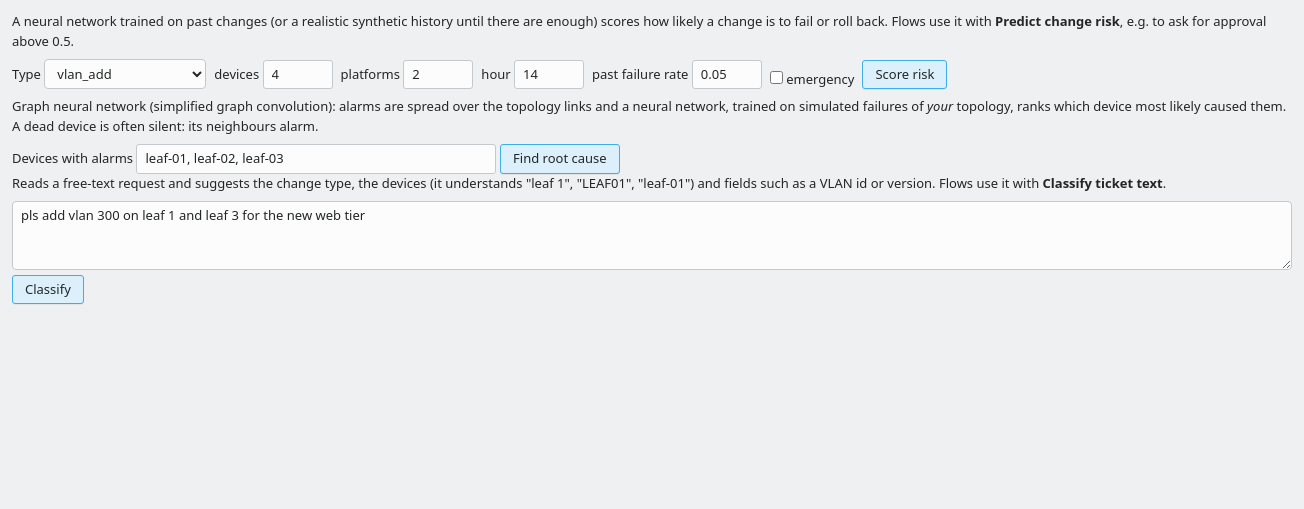
Test: Neural tabs › scores change risk, ranks root cause, classifies a ticket
Click the button "Score risk": (905, 74) [862,60,948,89]
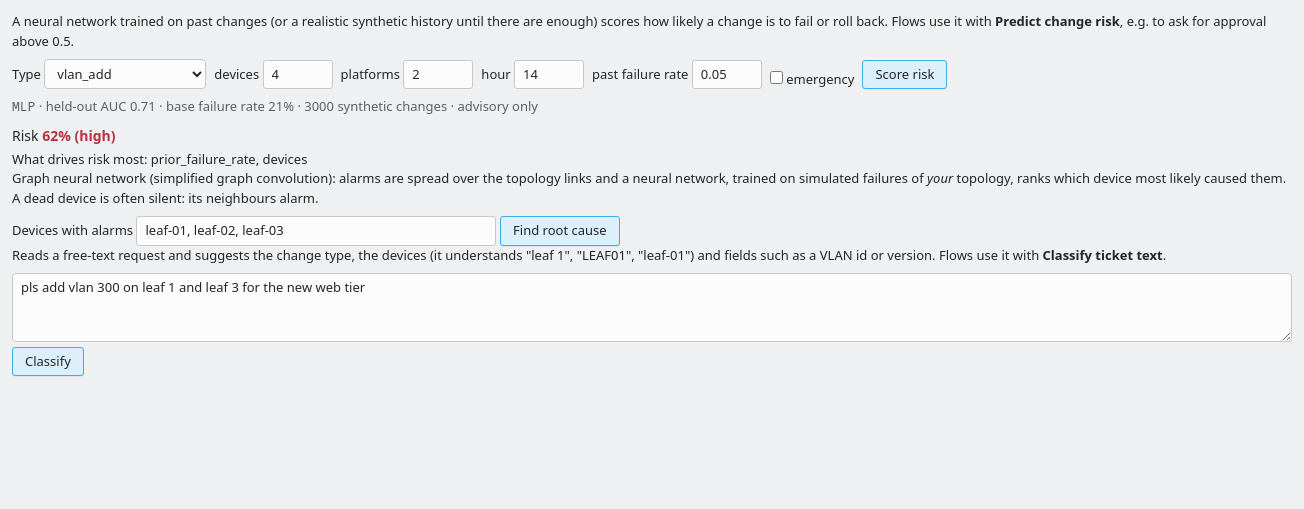
Now the text "62% (high)" is shown, box [42,126,116,144]
Click the button "Find root cause": (560, 231) [500,216,620,246]
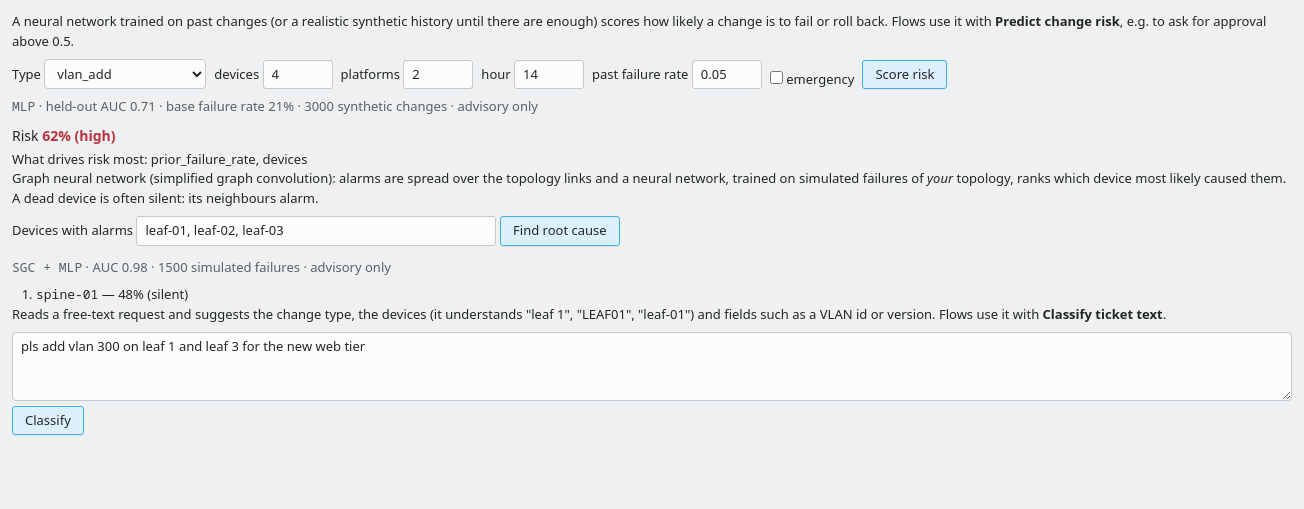
Now the text "spine-01" is shown, box [36,285,98,303]
Click the button "Classify": (48, 420) [12,406,84,435]
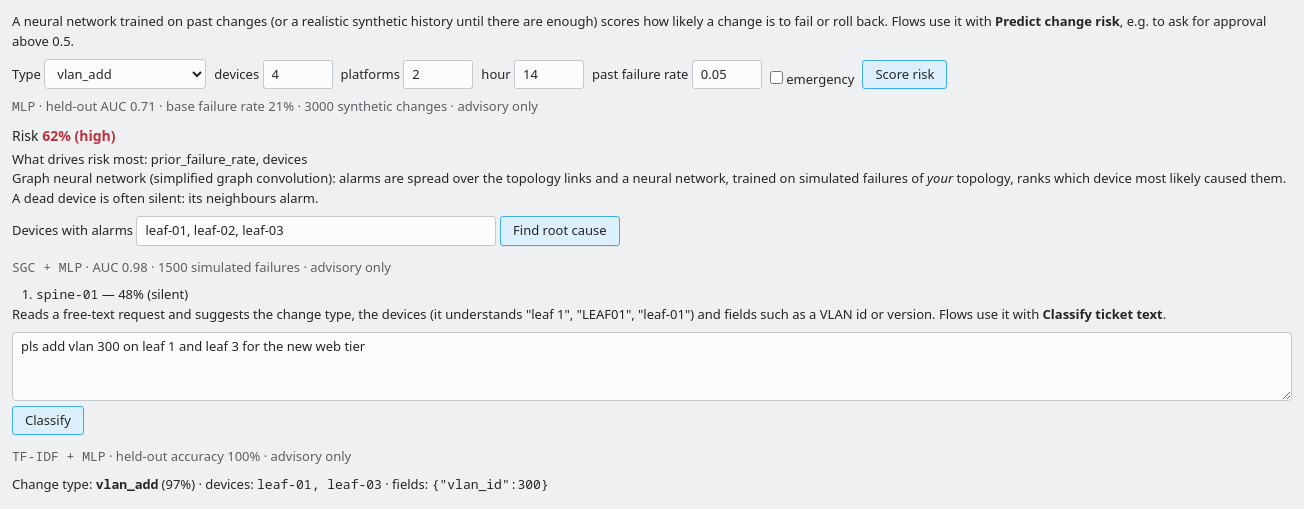
Now the text "leaf-01, leaf-03" is shown, box [257,474,382,492]
